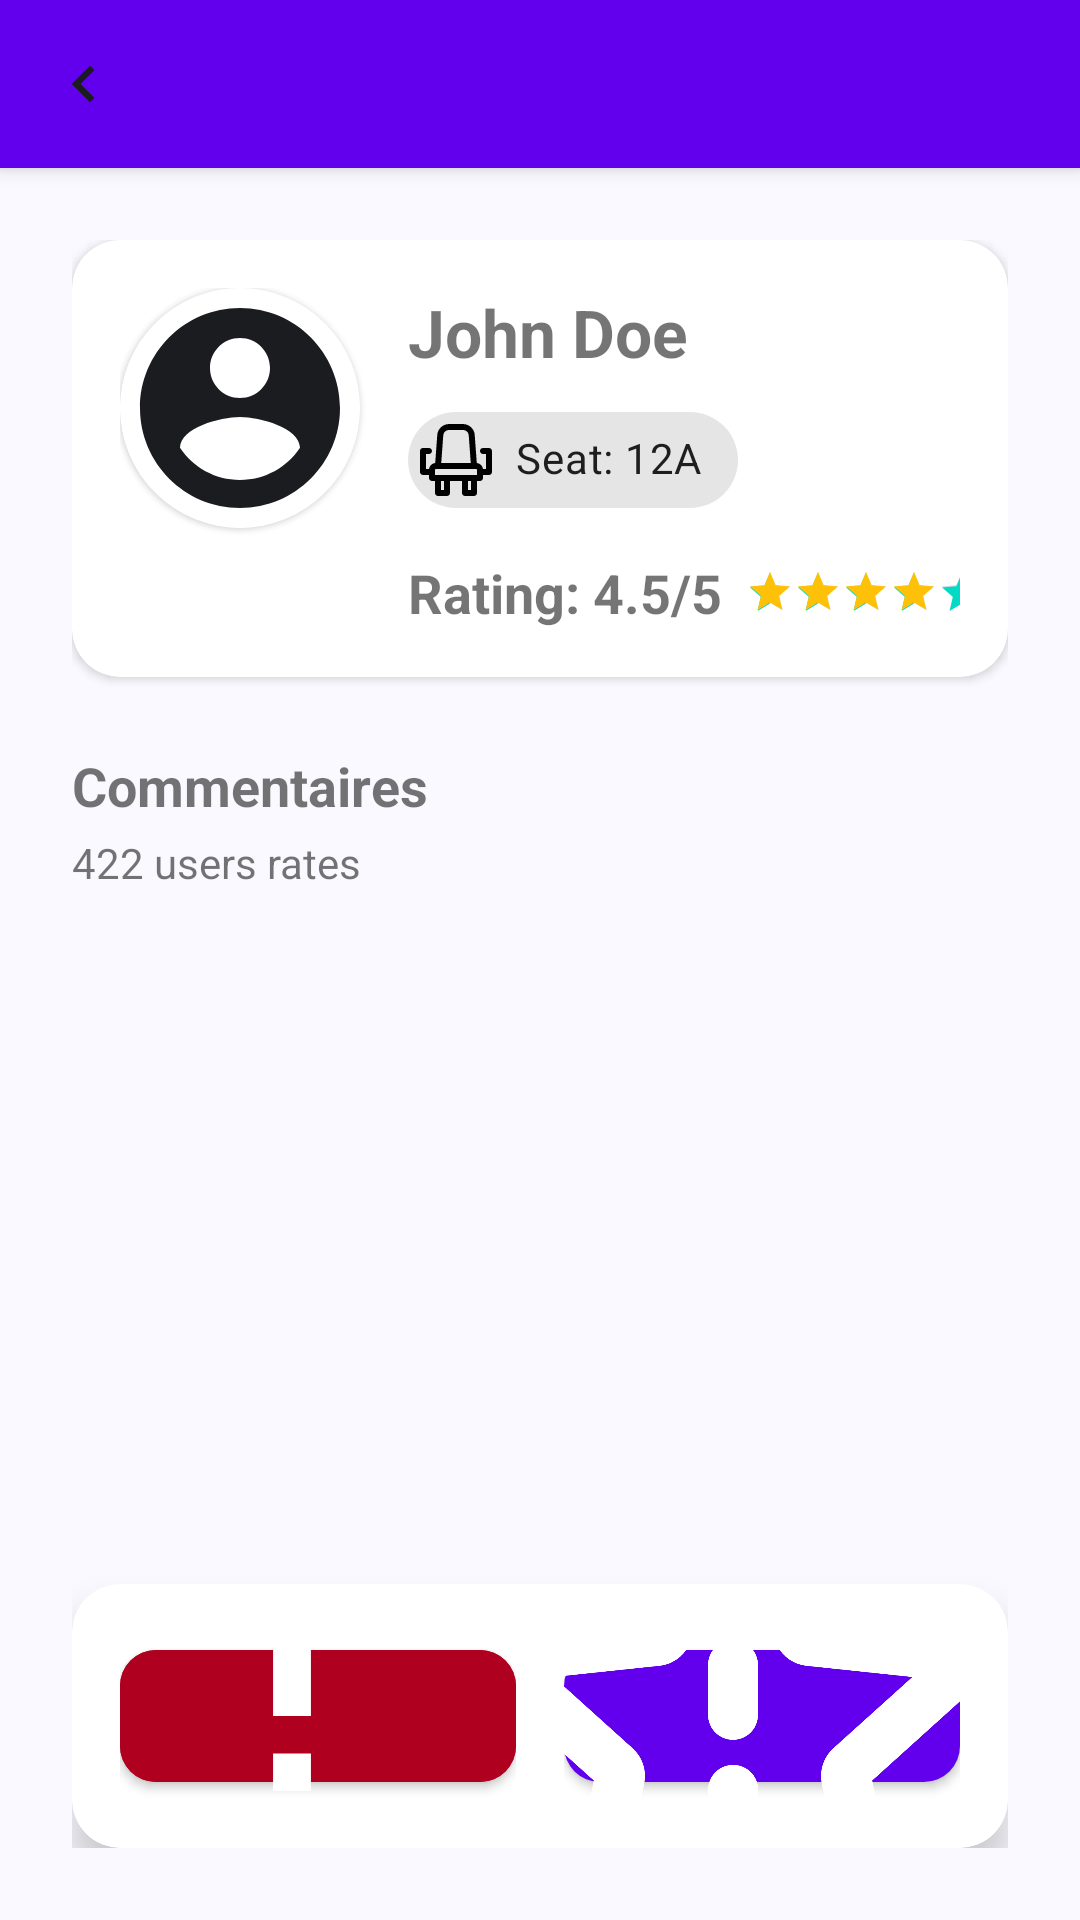

Named icons in this screenshot (1080*1920) and their bounding boxes, [x1,y1,x2,y2]:
user: [120,308,340,528]
